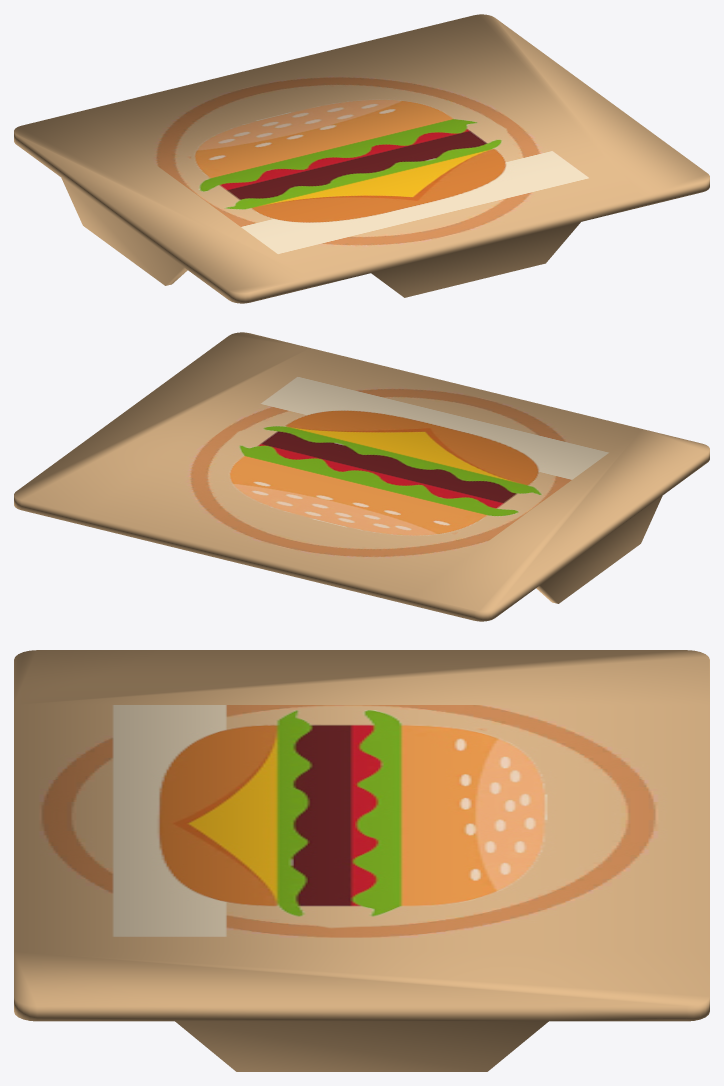
Rendered from waimaihe_s.FBX.
3 renders of one model, top to bottom at view 1: azimuth 30°, elevation 25°; view 2: azimuth 150°, elevation 25°; view 3: azimuth 270°, elevation 25°, orthographic. The views are drawn at different scales.
Visible parts, largest first — view 1: waimaihe_s; view 2: waimaihe_s; view 3: waimaihe_s.
Boxes of the visible parts, box(x1,y1,x2,y2) form: waimaihe_s: box(14, 14, 709, 303); waimaihe_s: box(14, 332, 709, 621); waimaihe_s: box(14, 650, 709, 1071).
Bounding box in the file's own units: 52.26 × 4.57 × 43.16.
